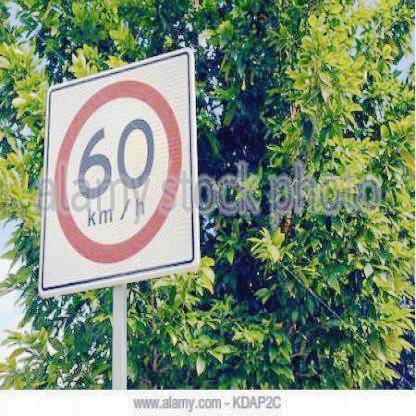Speed Limit -60-: (51, 77, 184, 268)
